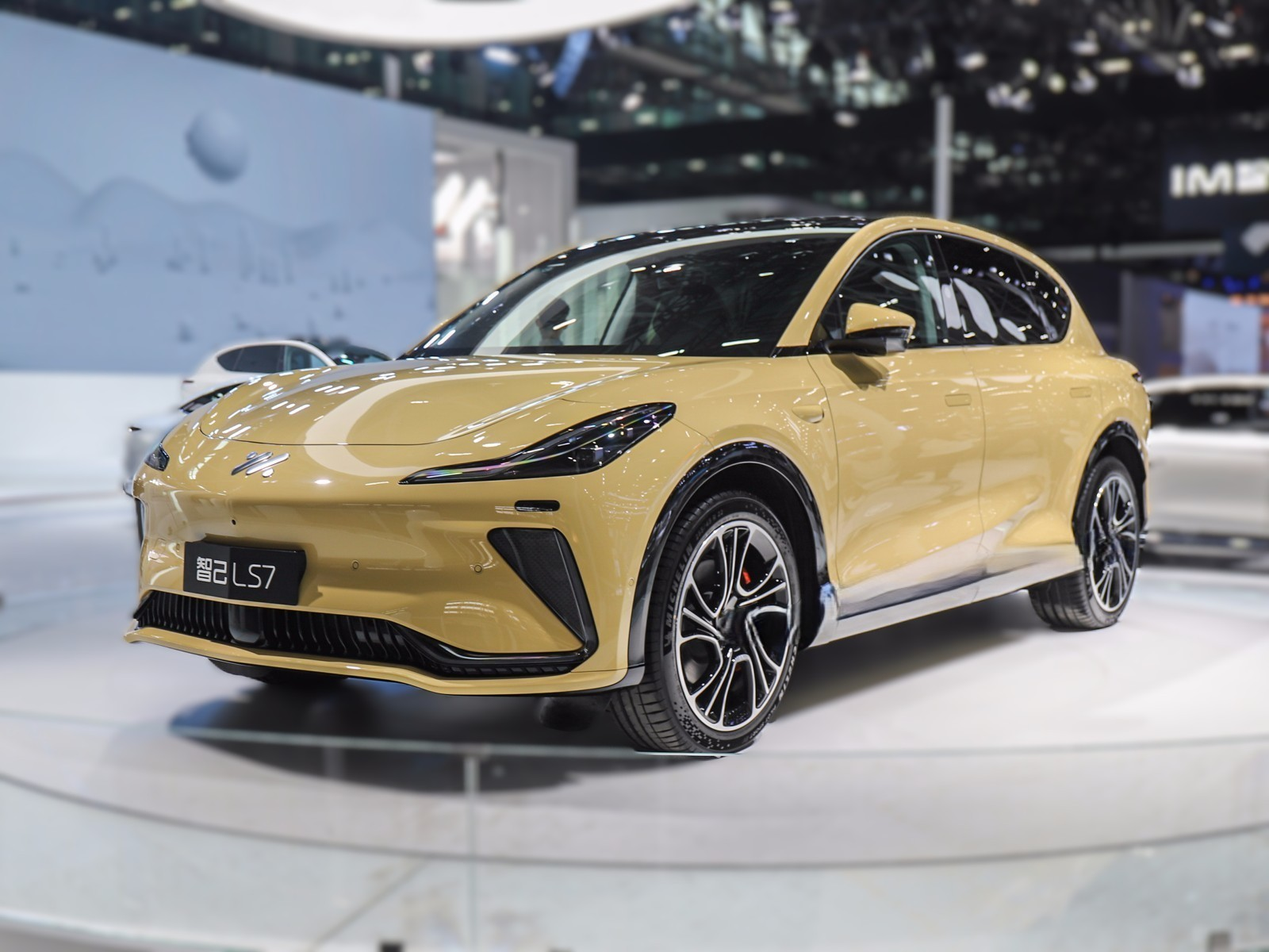IM: (232, 452, 289, 476)
